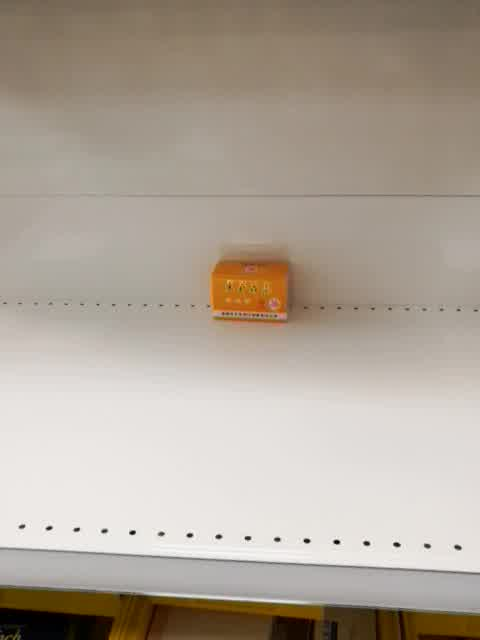jasminetea: (211, 259, 292, 325)
